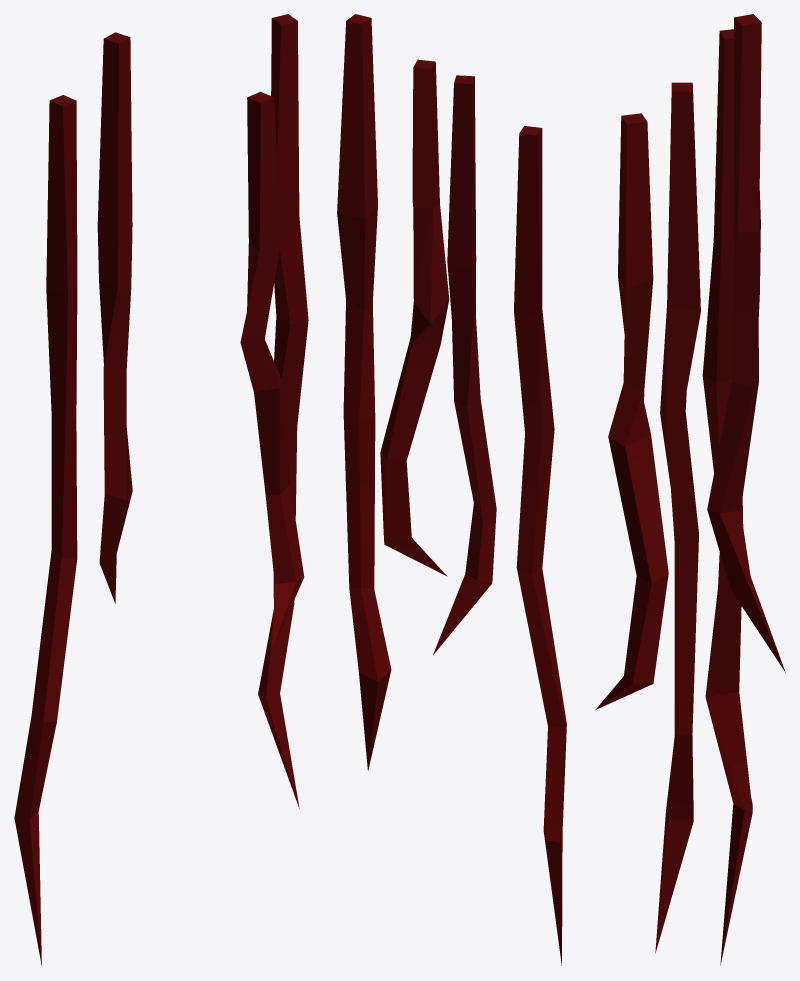
The model's file is SM_Env_Vines_02.gltf.
3 views of the same model, side by side, from view 1: azimuth 30°, elevation 25°; view 2: azimuth 150°, elevation 25°; view 3: azimuth 270°, elevation 25° (orthographic). The views are drawn at different scales.
Parts seen in each view (by area): view 1: SM_Env_Vines_02; view 2: SM_Env_Vines_02; view 3: SM_Env_Vines_02.
Part boxes in pixels (box(x1,y1,x2,y2)): SM_Env_Vines_02: box(14, 14, 308, 965); SM_Env_Vines_02: box(337, 14, 566, 965); SM_Env_Vines_02: box(595, 14, 785, 965).
Bounding box in the file's own units: 0.6324 × 2.14 × 0.3699.
